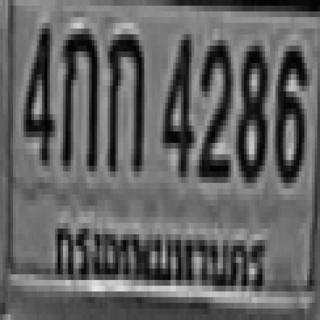A01: (60, 23, 97, 166), (105, 29, 142, 171)
N02: (197, 34, 231, 177)
N04: (160, 29, 192, 171), (21, 23, 52, 160)
N06: (273, 40, 304, 177)
N08: (234, 40, 265, 177)
P04: (47, 213, 268, 304)
